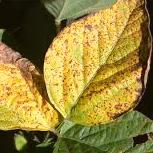Tomato Septoria leaf spot: (45, 1, 153, 124), (0, 38, 61, 136), (51, 105, 153, 153)
